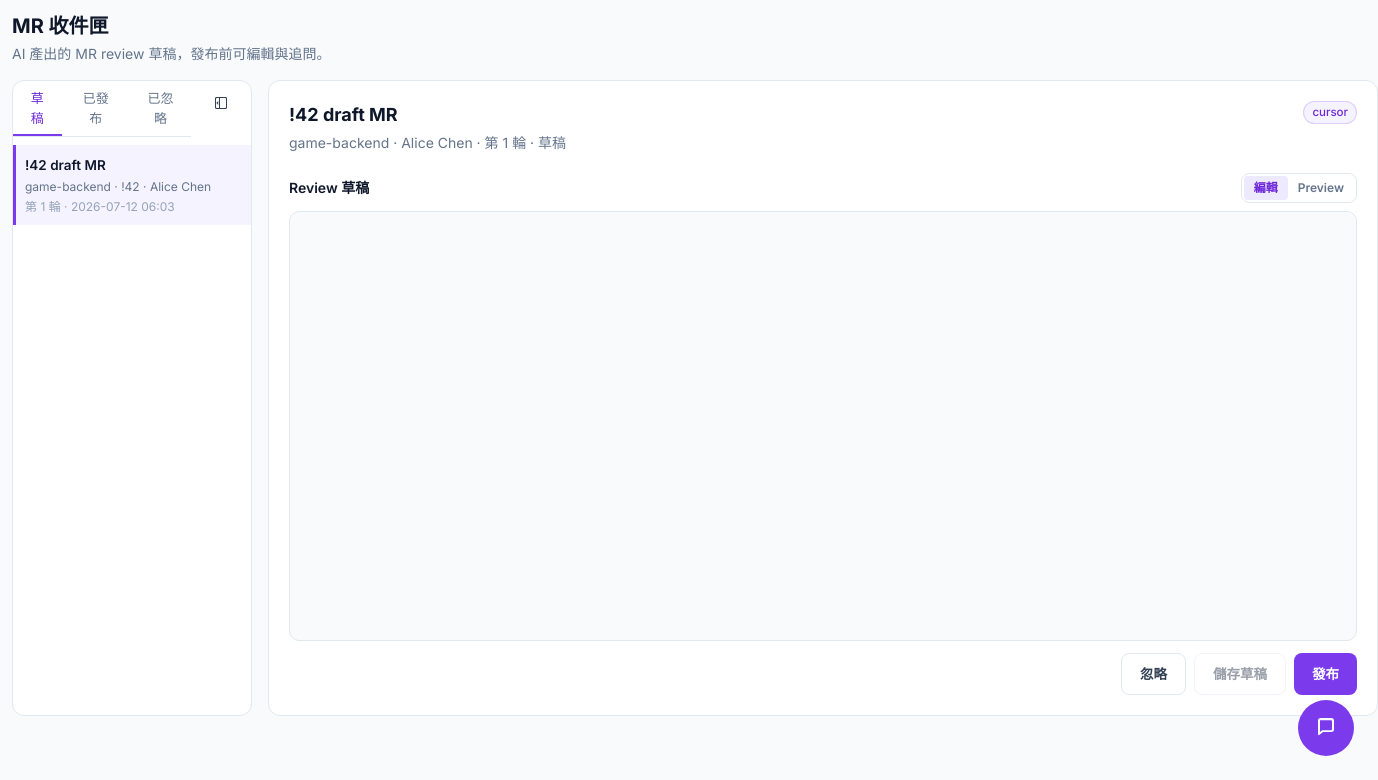
Test: MrInboxPage › shows conflict choices when agent returns new draft while editor is dirty
Type "my local edit" into the text box labelled "Review 草稿" at (823, 426), box [289,211,1357,641]
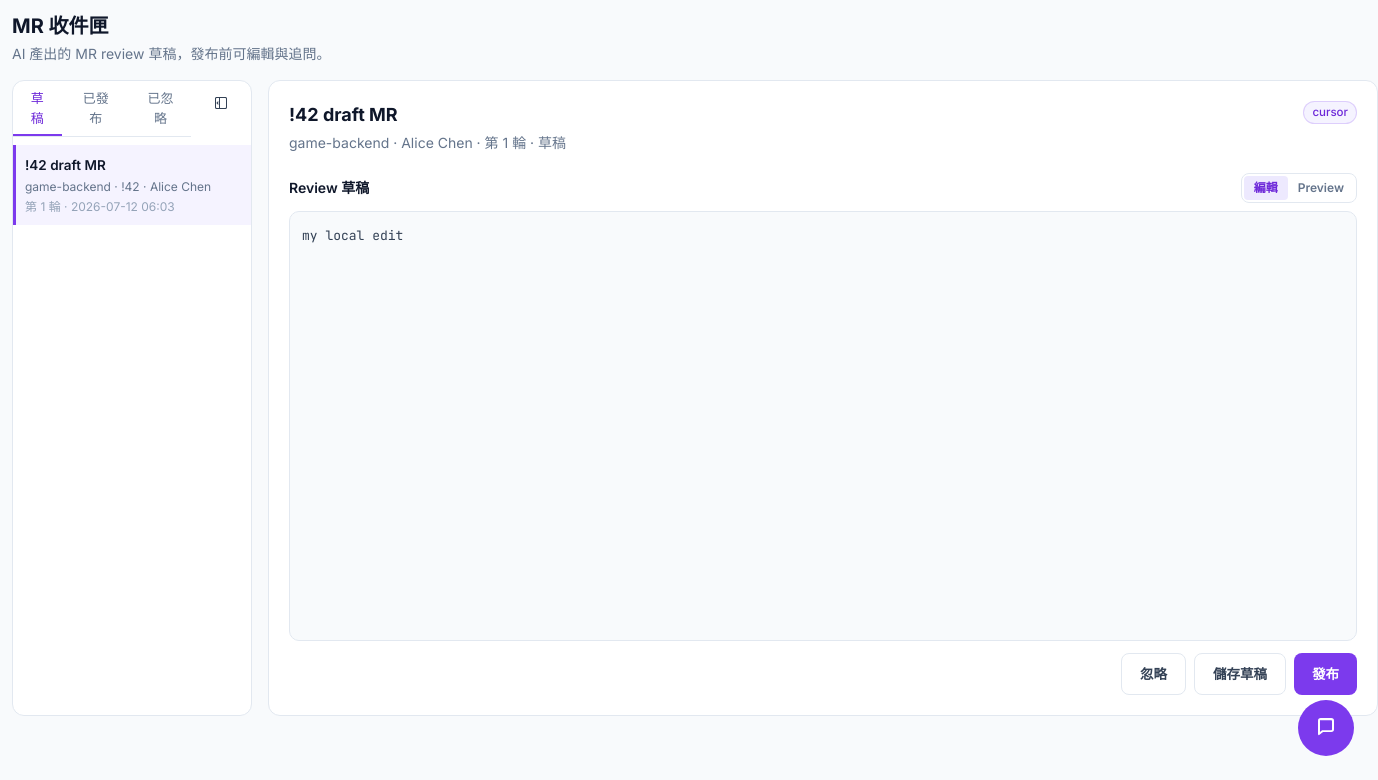
Click the button named "展開 Agent Chat" at (1326, 728), box [1298,700,1354,756]
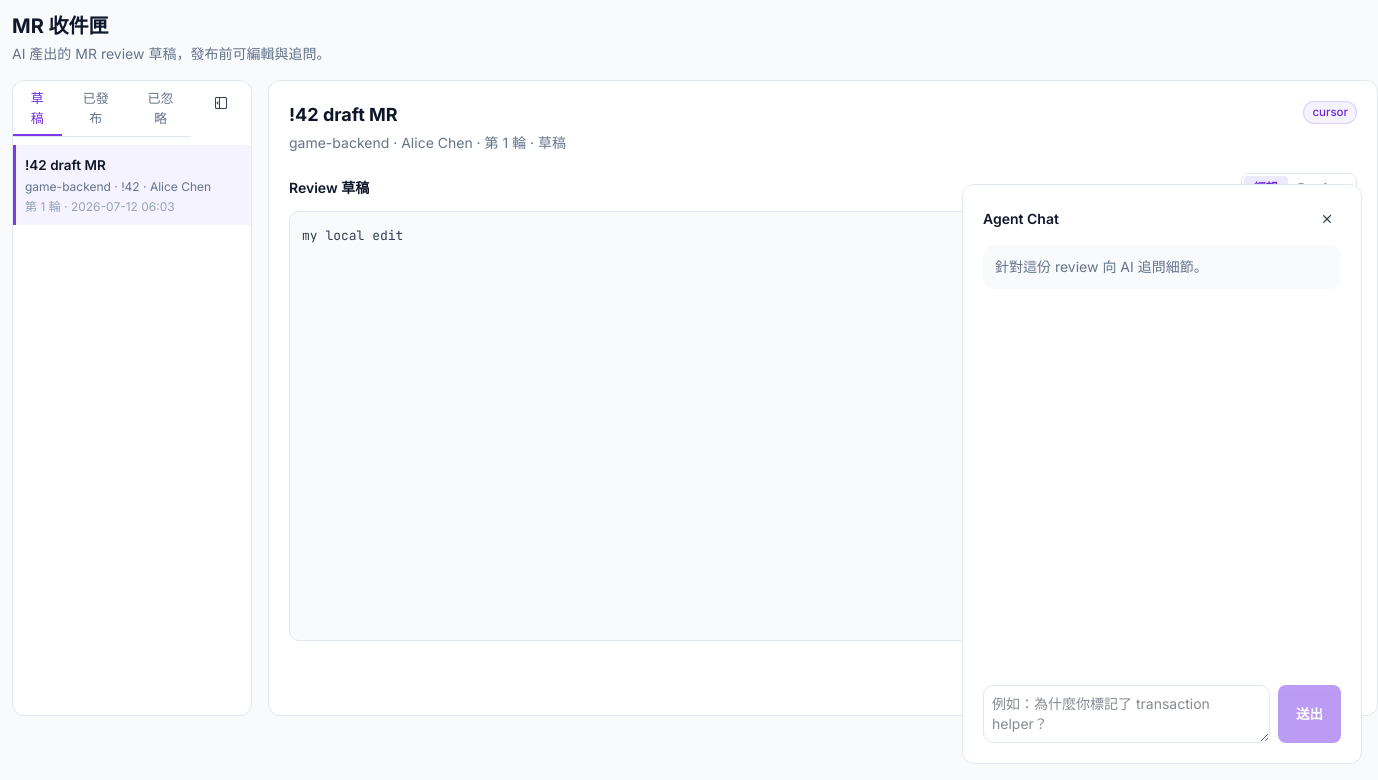
Type "please revise" into the text box with placeholder "例如：為什麼你標記了 transaction helper？" at (1126, 714), box [983,685,1270,743]
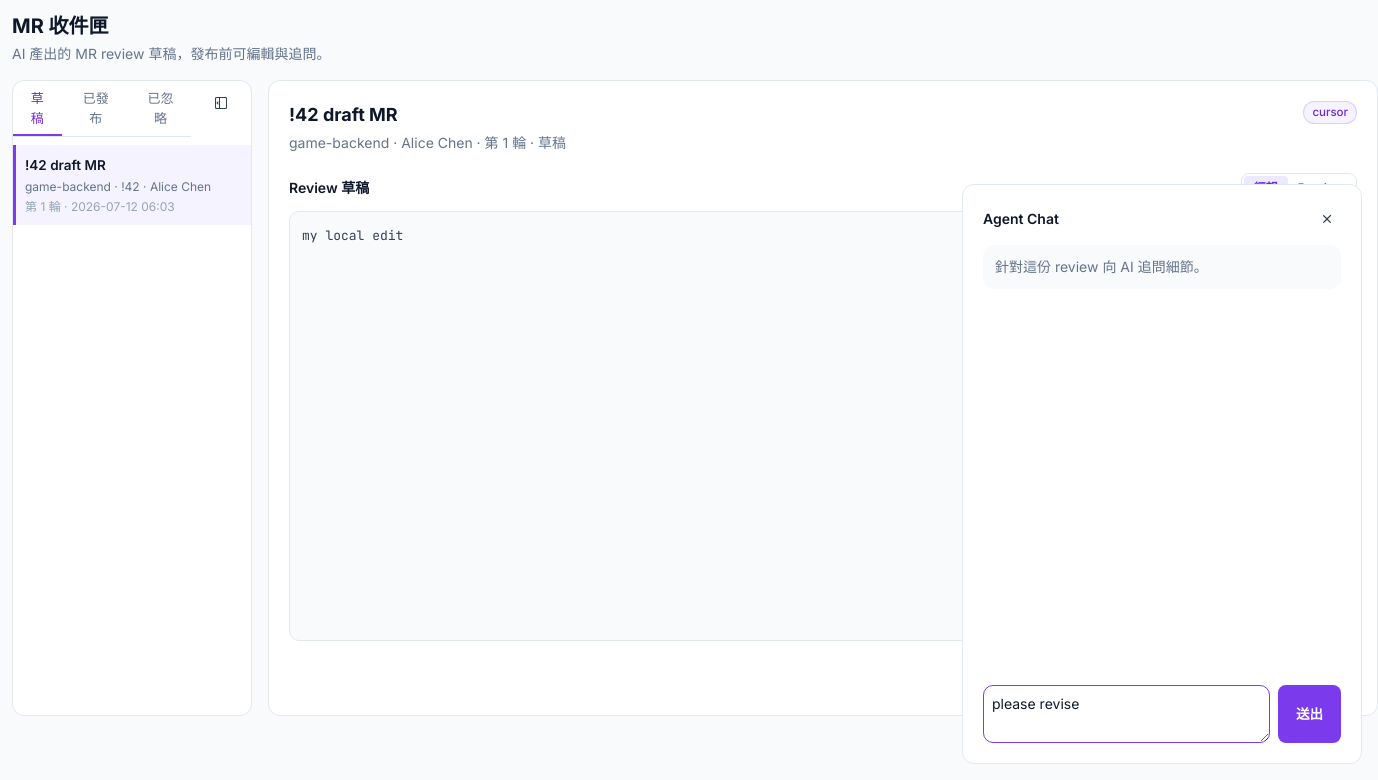
Click the button "送出" at (1310, 714), box [1278,685,1341,743]
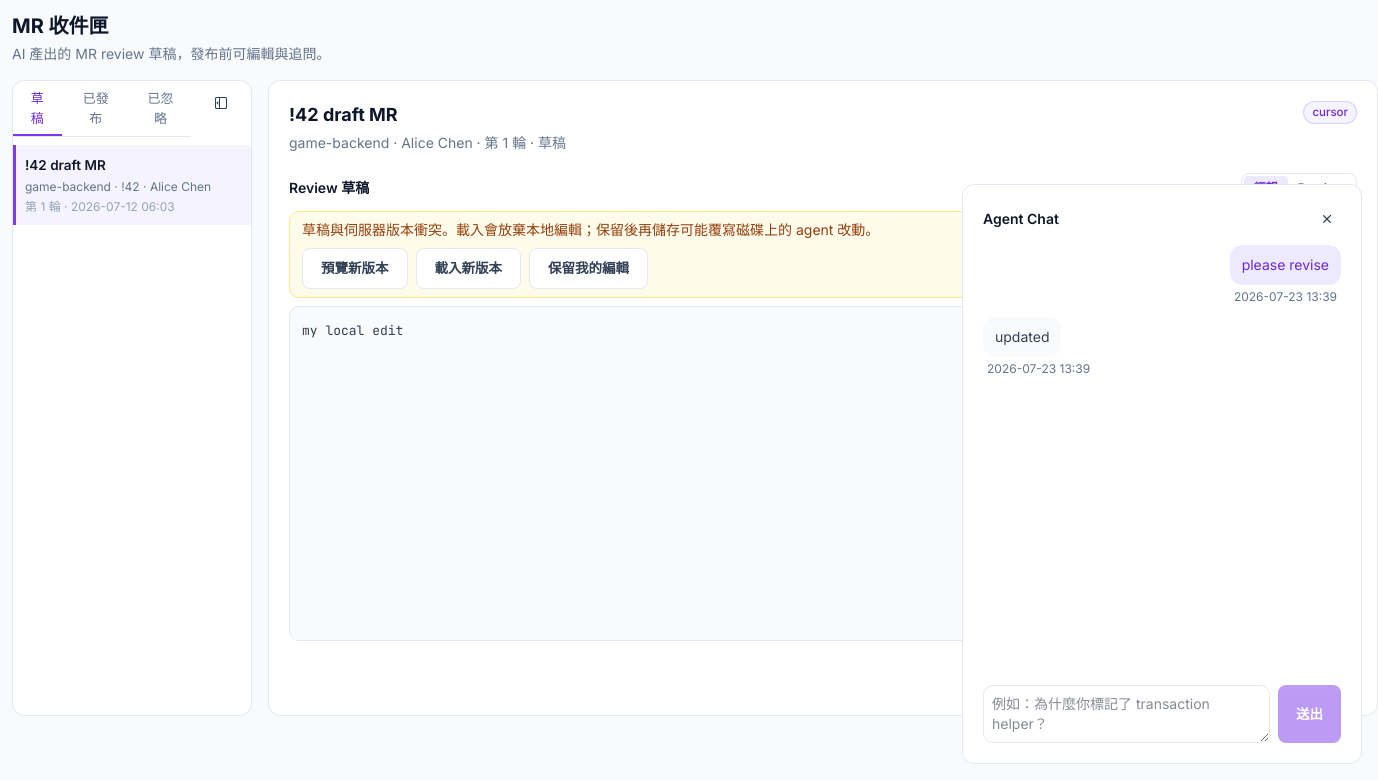
Expected: the button "預覽新版本" is shown, [302,248,408,289]
Expected: the button "載入新版本" is shown, [416,248,521,289]
Expected: the button "保留我的編輯" is shown, [529,248,648,289]
